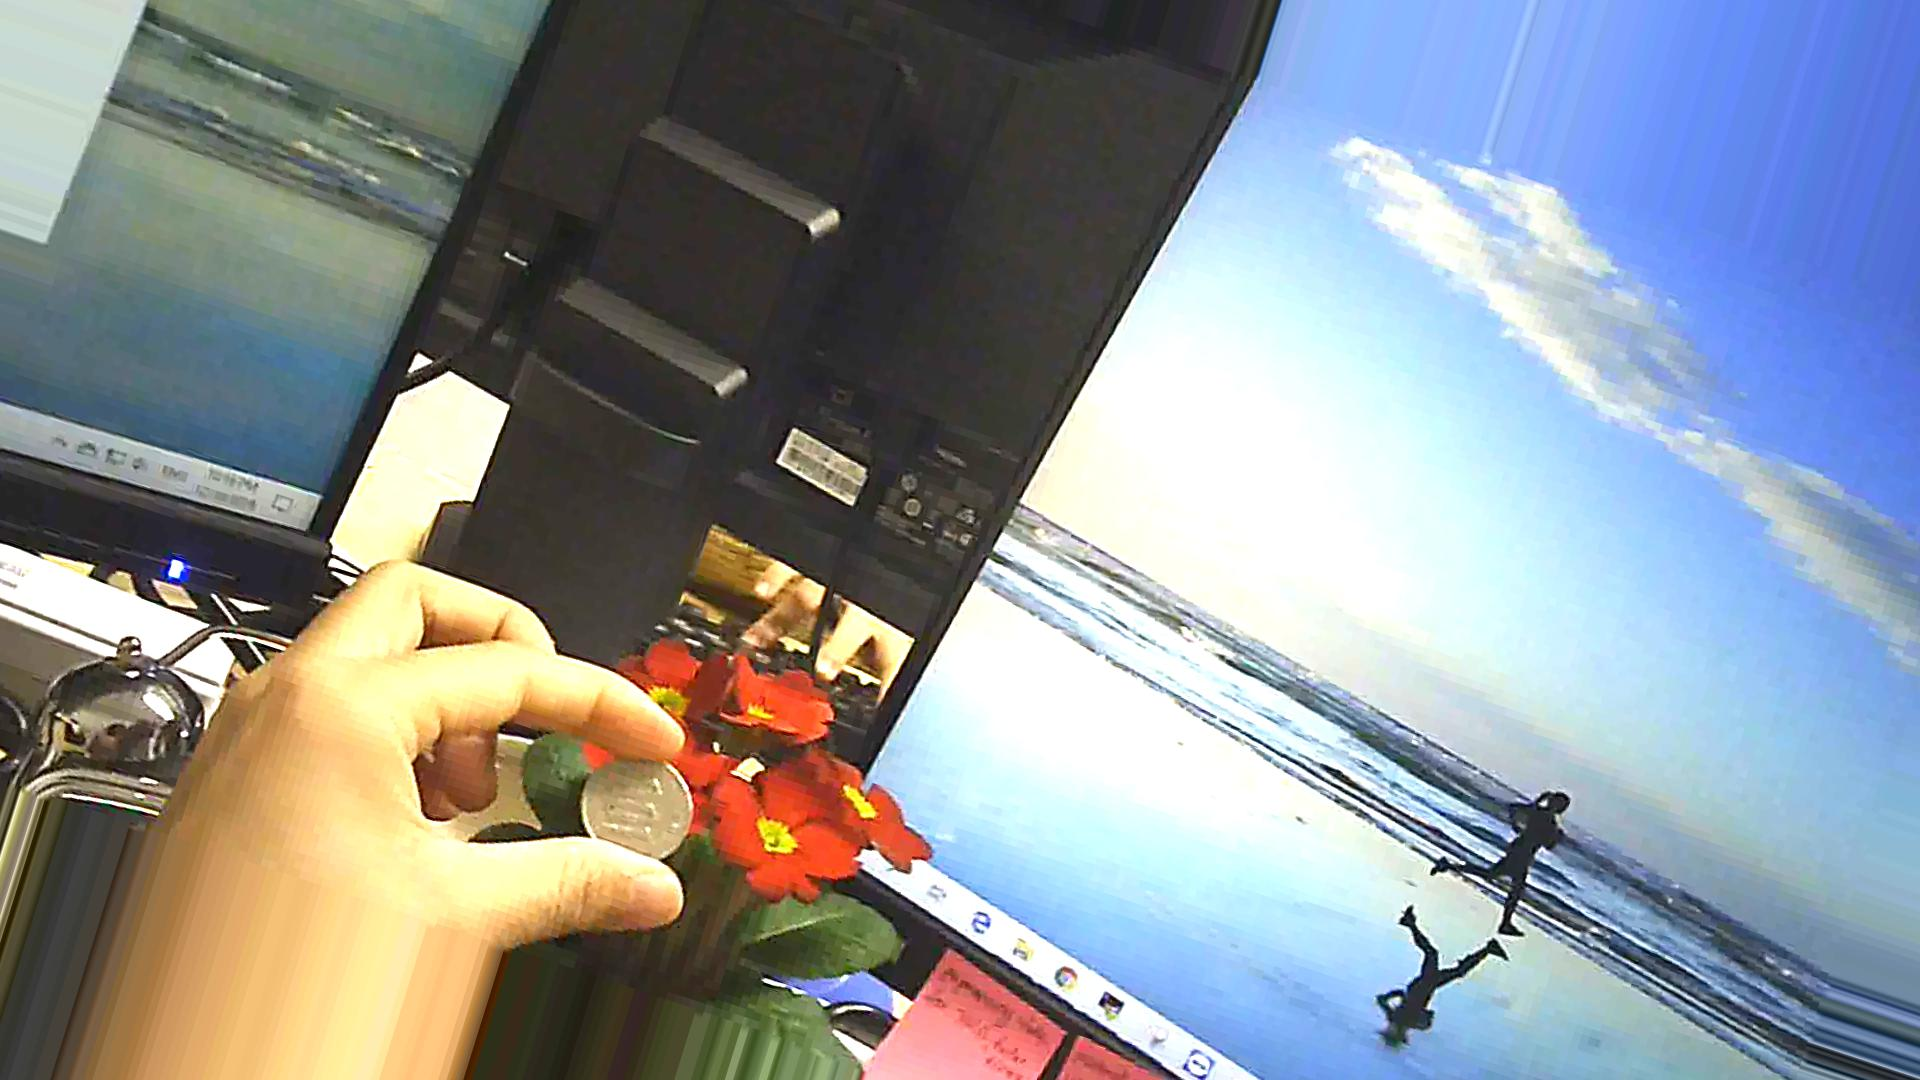100 Yen: (555, 752, 707, 861)
